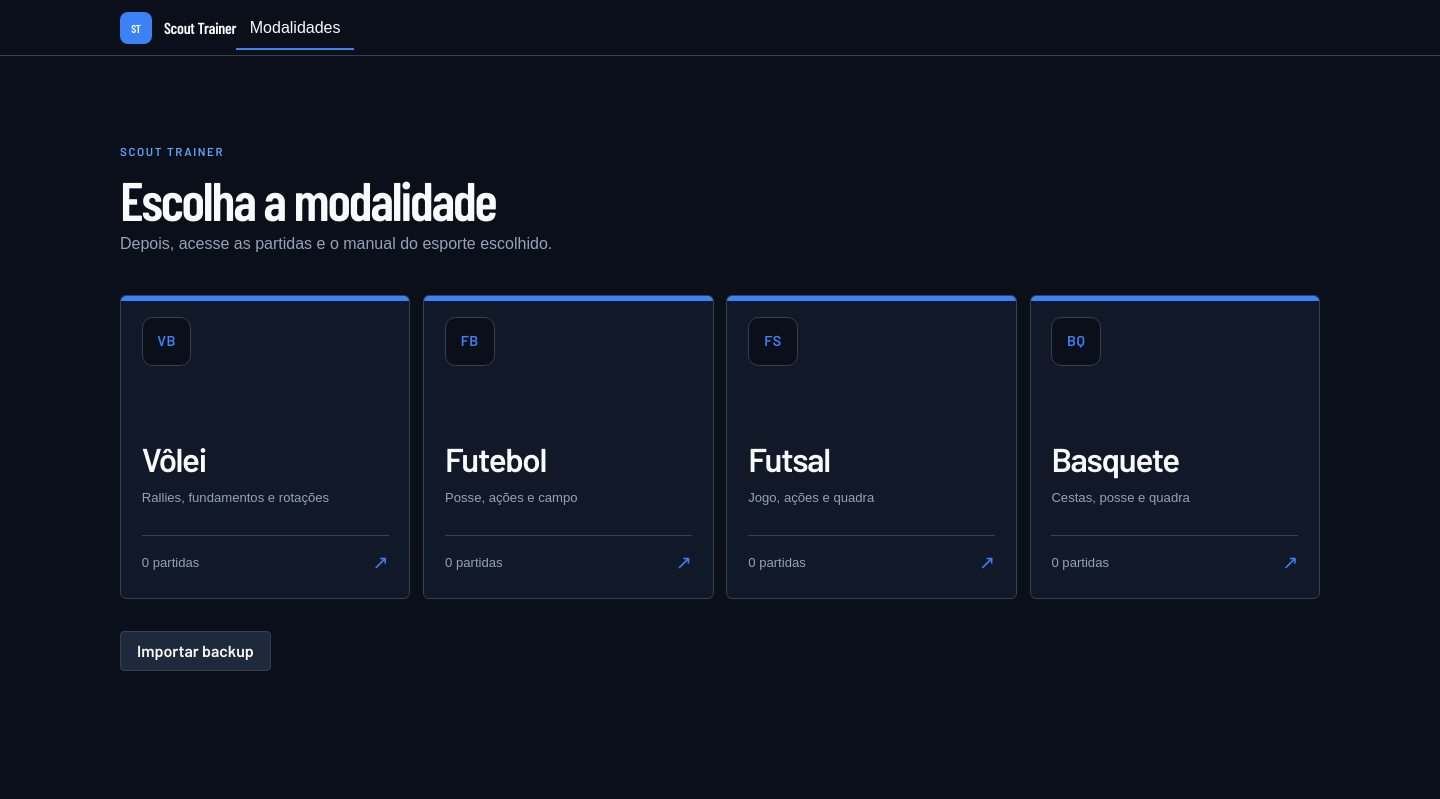
Test: usable MVP flow › keeps explicit volleyball on the existing volleyball recorder
The image size is (1440, 799).
What coordinates should you click on to do the following:
click the button with aria-label "Vôlei: abrir partidas e manual"
I would click on:
 (167, 341)
Its box is x1=120 y1=295 x2=410 y2=599.
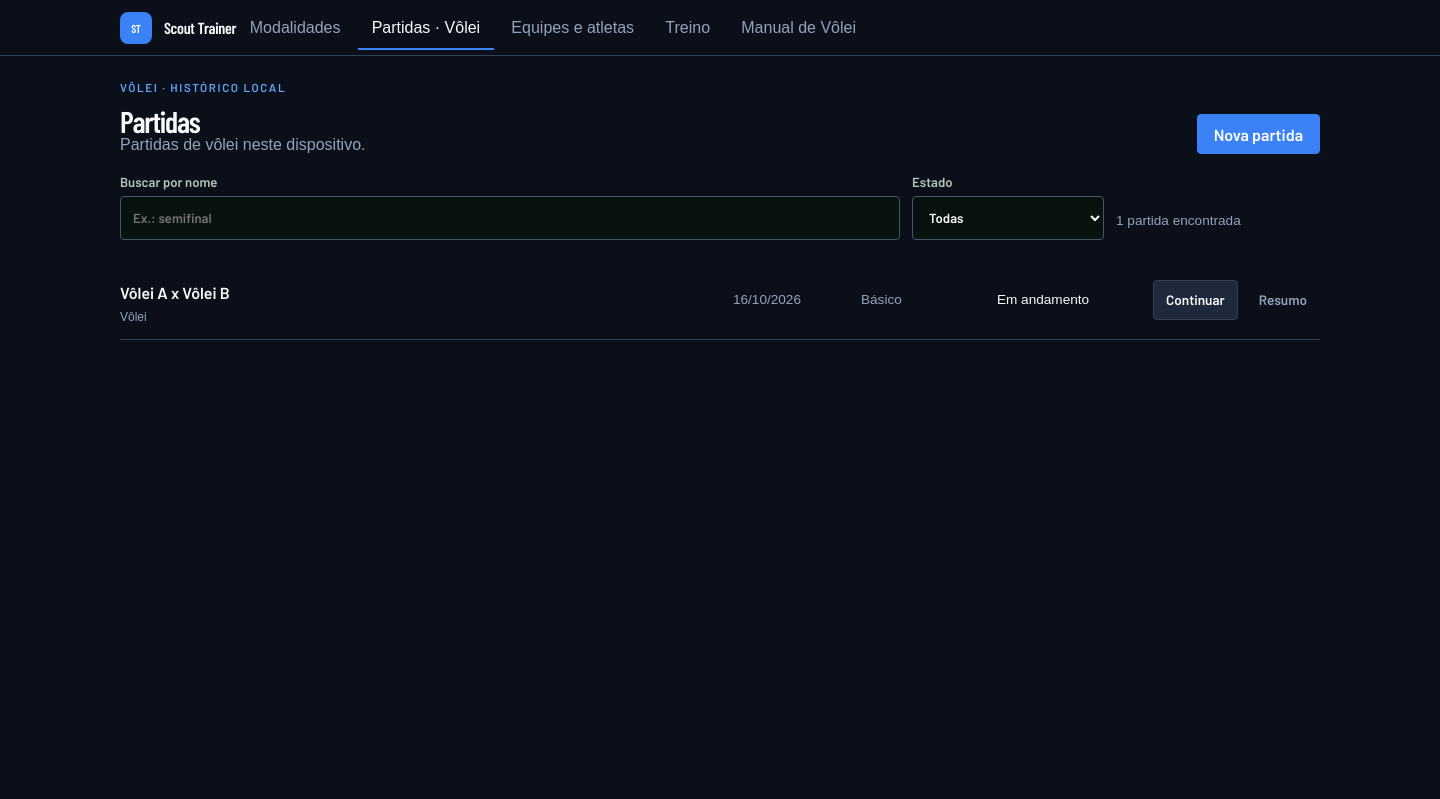
Expected: the heading "Partidas" is shown, x1=120 y1=103 x2=200 y2=139
What coordinates should you click on to do the following:
click the button "Vôlei A x Vôlei B"
I would click on:
 (175, 293)
Its box is x1=120 y1=275 x2=230 y2=310.
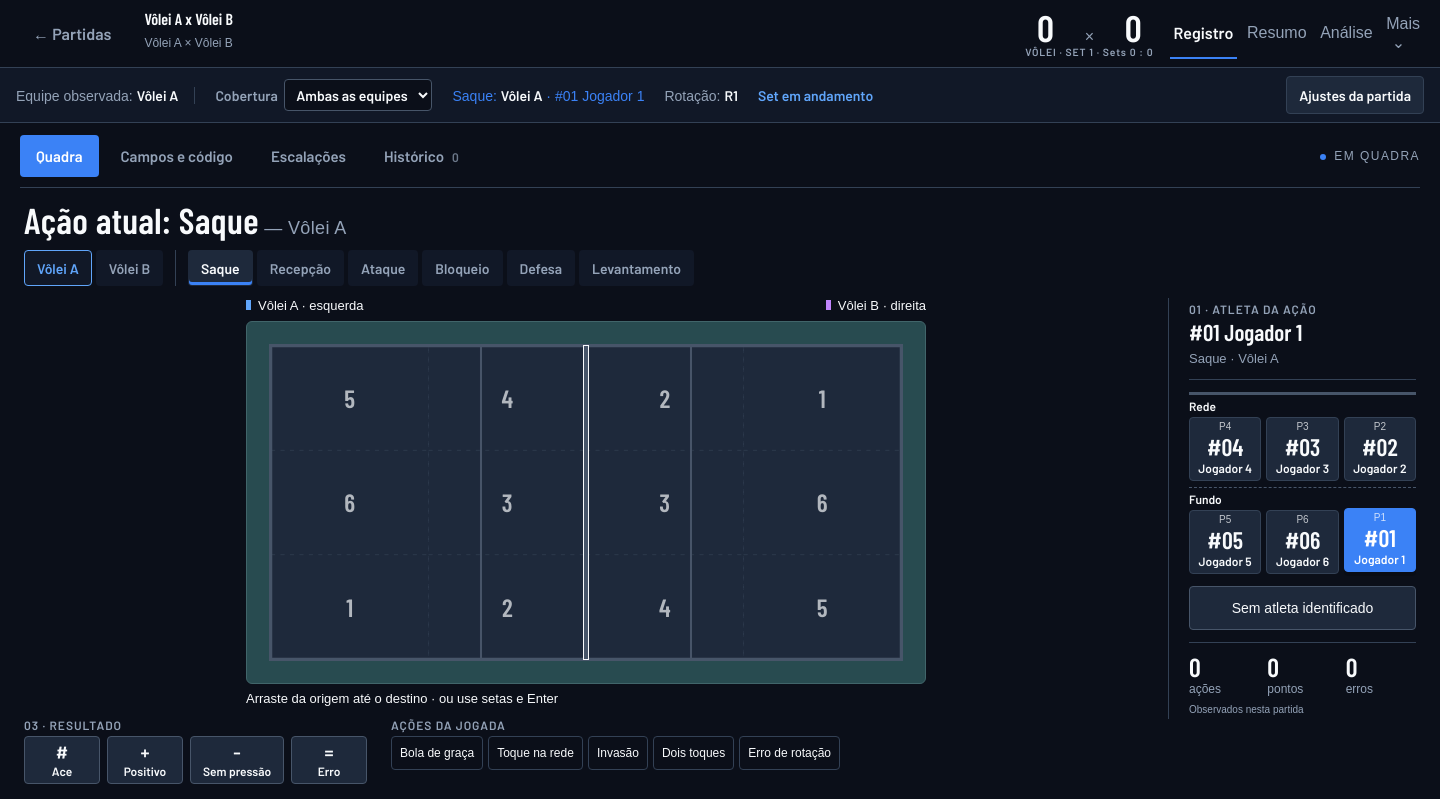
Result: the navigation bar named "Seções da partida" is shown at x1=1170 y1=8 x2=1424 y2=59
Result: the element named "Contexto atual da partida" shows "Rotação: R1" at x1=0 y1=68 x2=1439 y2=123
